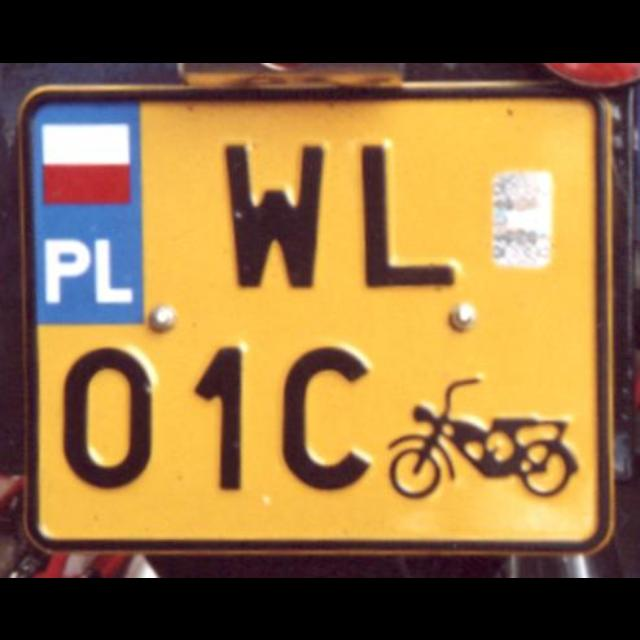pl_license_plate: (24, 91, 606, 543)
